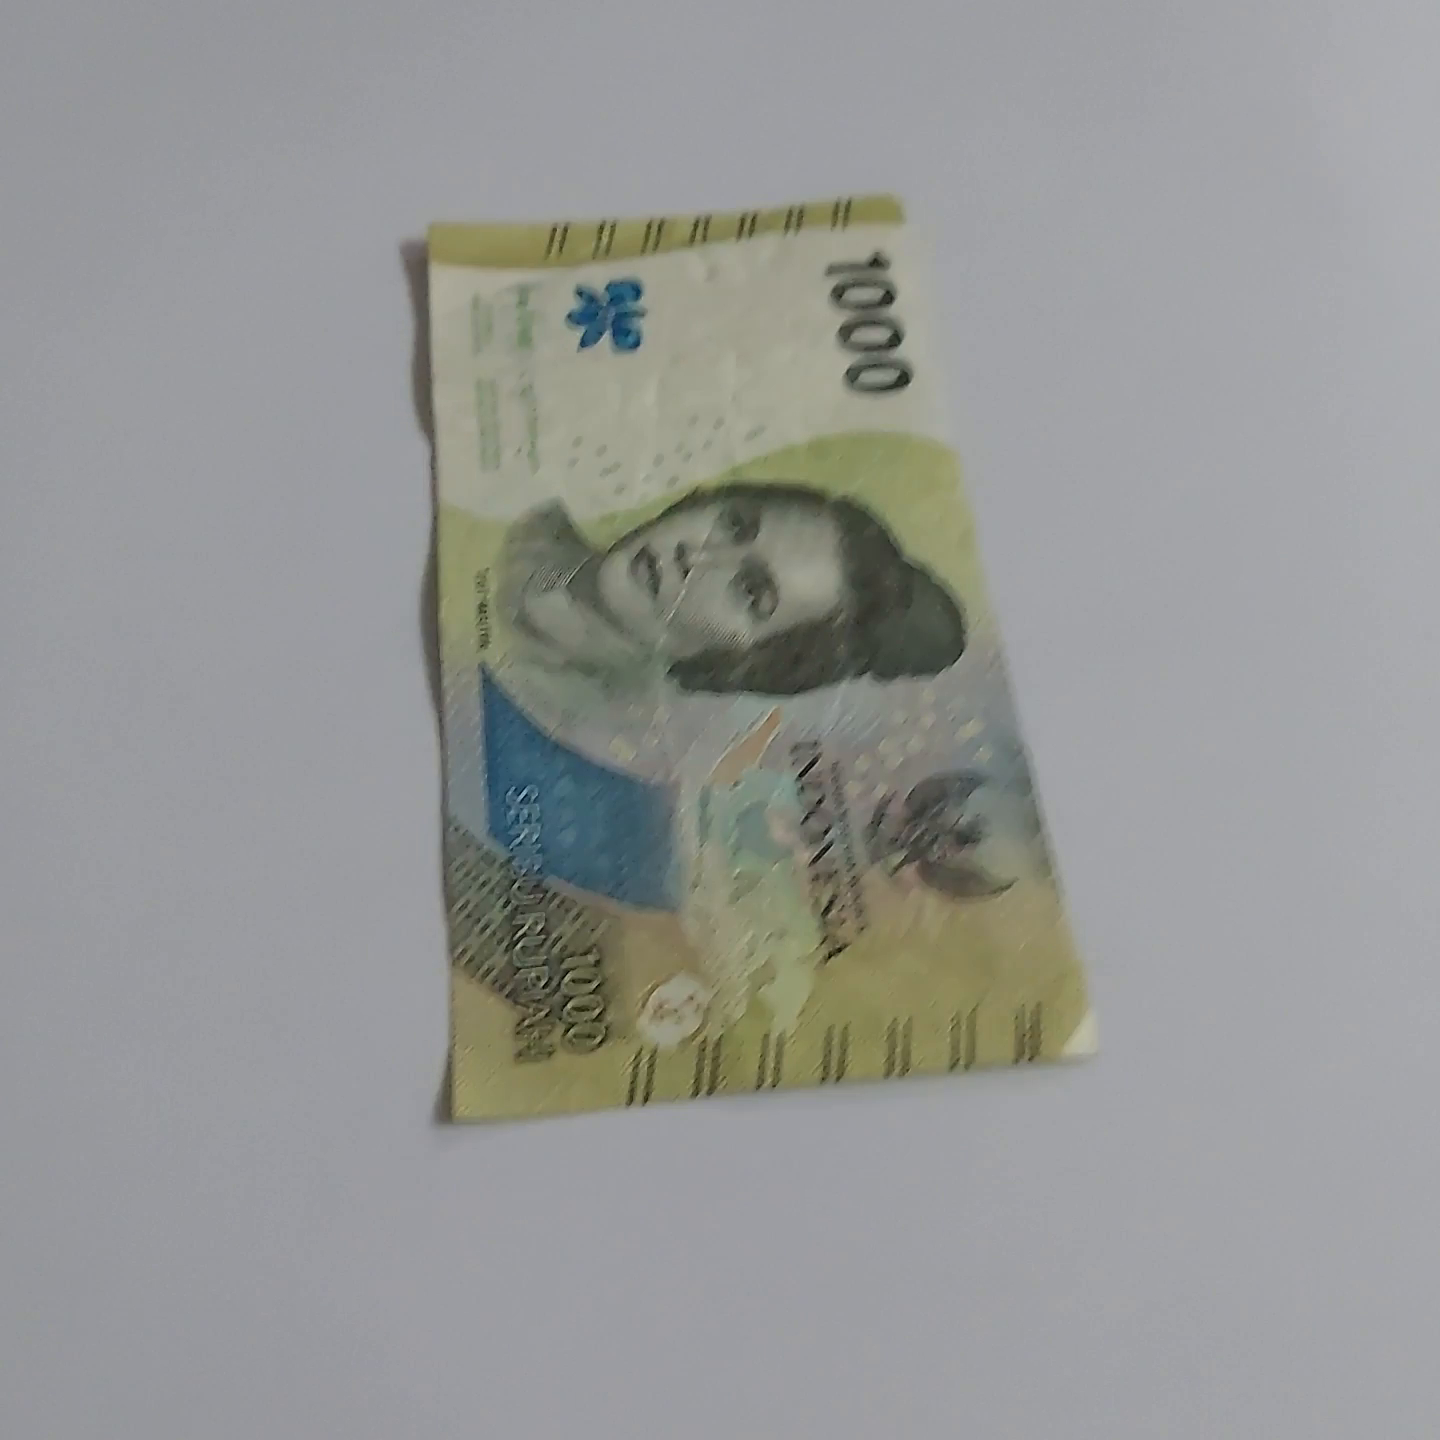1k: (402, 206, 1134, 1170)
